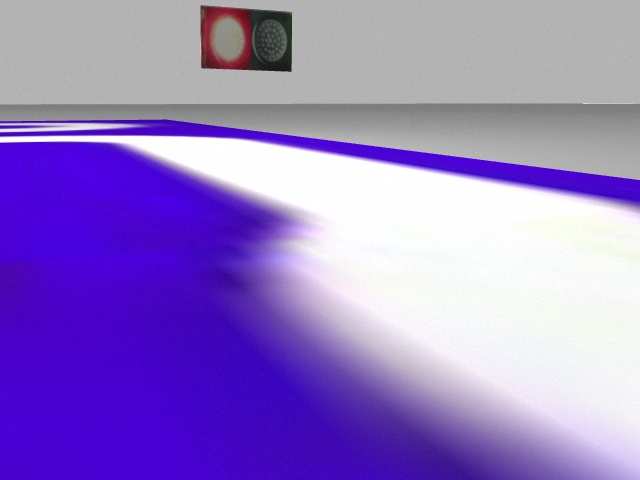red: (199, 7, 250, 71)
